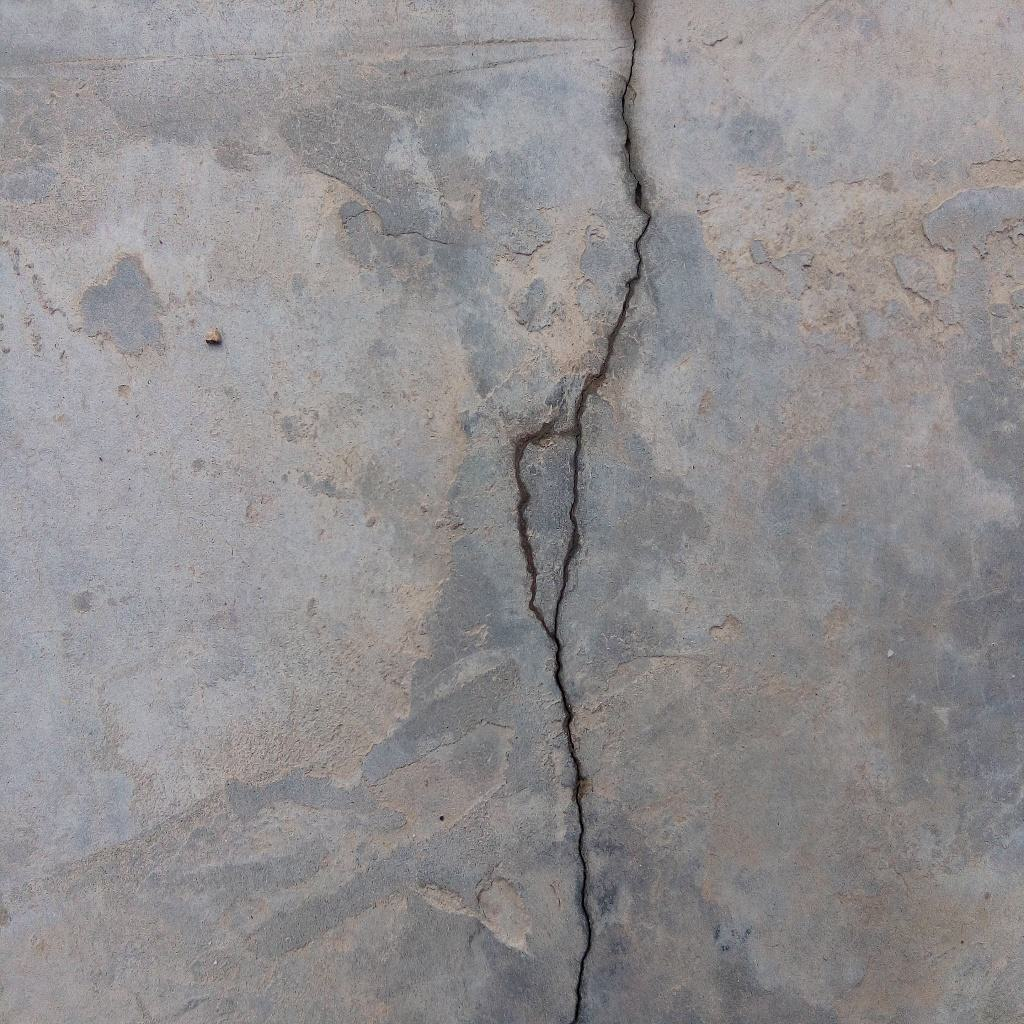Crack: (510, 1, 653, 1024)
